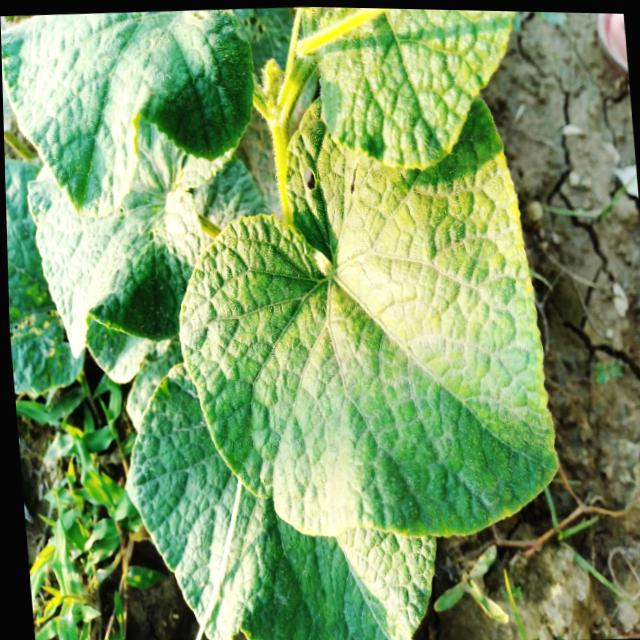Fresh-Leaf: (172, 95, 563, 541)
